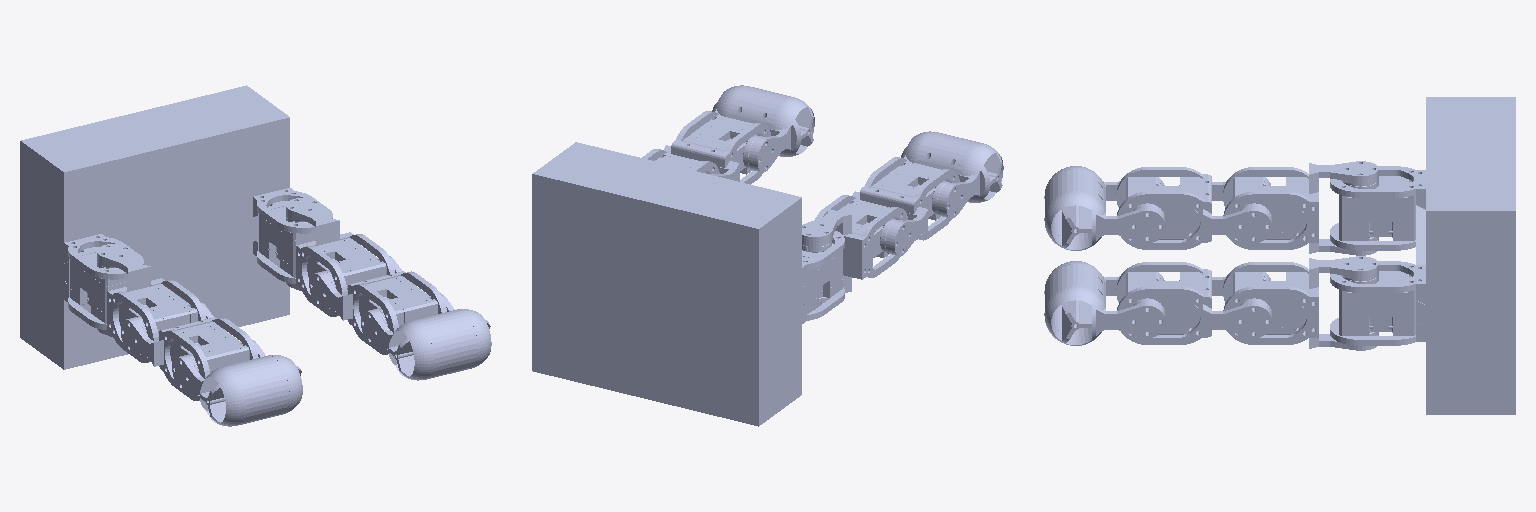
URDF robot description (WalkBot):
<?xml version="1.0" encoding="utf-8"?>
<!-- This URDF was automatically created by SolidWorks to URDF Exporter! Originally created by [author] ([email redacted]) 
     Commit Version: 1.6.0-4-g7f85cfe  Build Version: 1.6.7995.38578
     For more information, please see http://wiki.ros.org/sw_urdf_exporter -->
<robot
  name="WalkBot">
  <link
    name="Body">
    <inertial>
      <origin
        xyz="-8.1814E-07 -0.0027373 1.5441E-05"
        rpy="0 0 0" />
      <mass
        value="0.52075" />
      <inertia
        ixx="0.0004712"
        ixy="2.7572E-09"
        ixz="1.6809E-10"
        iyy="0.00098383"
        iyz="5.3327E-09"
        izz="0.00065412" />
    </inertial>
    <visual>
      <origin
        xyz="0 0 0"
        rpy="0 0 0" />
      <geometry>
        <mesh
          filename="package://WalkBot/meshes/Body.STL" />
      </geometry>
      <material
        name="">
        <color
          rgba="0.79216 0.81961 0.93333 1" />
      </material>
    </visual>
    <collision>
      <origin
        xyz="0 0 0"
        rpy="0 0 0" />
      <geometry>
        <mesh
          filename="package://WalkBot/meshes/Body.STL" />
      </geometry>
    </collision>
  </link>
  <link
    name="Servo1_Left">
    <inertial>
      <origin
        xyz="0.0001748 -0.031801 6.6302E-05"
        rpy="0 0 0" />
      <mass
        value="0.023001" />
      <inertia
        ixx="3.3804E-06"
        ixy="2.6664E-09"
        ixz="-8.4184E-11"
        iyy="1.075E-06"
        iyz="-1.3768E-09"
        izz="2.8519E-06" />
    </inertial>
    <visual>
      <origin
        xyz="0 0 0"
        rpy="0 0 0" />
      <geometry>
        <mesh
          filename="package://WalkBot/meshes/Servo1_Left.STL" />
      </geometry>
      <material
        name="">
        <color
          rgba="0.79216 0.81961 0.93333 1" />
      </material>
    </visual>
    <collision>
      <origin
        xyz="0 0 0"
        rpy="0 0 0" />
      <geometry>
        <mesh
          filename="package://WalkBot/meshes/Servo1_Left.STL" />
      </geometry>
    </collision>
  </link>
  <joint
    name="hip_L"
    type="revolute">
    <origin
      xyz="0.05 -0.048627 0"
      rpy="0 0 0" />
    <parent
      link="Body" />
    <child
      link="Servo1_Left" />
    <axis
      xyz="0 0 1" />
    <limit
      lower="-1.5708"
      upper="1.5708"
      effort="0.52"
      velocity="10.89" />
  </joint>
  <link
    name="Servo2_Left">
    <inertial>
      <origin
        xyz="0.00023591 -0.031996 9.424E-06"
        rpy="0 0 0" />
      <mass
        value="0.022604" />
      <inertia
        ixx="3.2744E-06"
        ixy="2.6681E-09"
        ixz="-8.2916E-11"
        iyy="1.1133E-06"
        iyz="-1.3786E-09"
        izz="2.8388E-06" />
    </inertial>
    <visual>
      <origin
        xyz="0 0 0"
        rpy="0 0 0" />
      <geometry>
        <mesh
          filename="package://WalkBot/meshes/Servo2_Left.STL" />
      </geometry>
      <material
        name="">
        <color
          rgba="0.79216 0.81961 0.93333 1" />
      </material>
    </visual>
    <collision>
      <origin
        xyz="0 0 0"
        rpy="0 0 0" />
      <geometry>
        <mesh
          filename="package://WalkBot/meshes/Servo2_Left.STL" />
      </geometry>
    </collision>
  </link>
  <joint
    name="knee_L"
    type="revolute">
    <origin
      xyz="0 -0.047416 0"
      rpy="0 0 0" />
    <parent
      link="Servo1_Left" />
    <child
      link="Servo2_Left" />
    <axis
      xyz="1 0 0" />
    <limit
      lower="-1.5708"
      upper="1.5708"
      effort="0.52"
      velocity="10.89" />
  </joint>
  <link
    name="Servo3_Left">
    <inertial>
      <origin
        xyz="8.1489E-05 -0.024657 2.8085E-09"
        rpy="0 0 0" />
      <mass
        value="0.0161" />
      <inertia
        ixx="1.7995E-06"
        ixy="1.2438E-12"
        ixz="6.8056E-14"
        iyy="1.2353E-06"
        iyz="-1.4179E-13"
        izz="1.4739E-06" />
    </inertial>
    <visual>
      <origin
        xyz="0 0 0"
        rpy="0 0 0" />
      <geometry>
        <mesh
          filename="package://WalkBot/meshes/Servo3_Left.STL" />
      </geometry>
      <material
        name="">
        <color
          rgba="0.79216 0.81961 0.93333 1" />
      </material>
    </visual>
    <collision>
      <origin
        xyz="0 0 0"
        rpy="0 0 0" />
      <geometry>
        <mesh
          filename="package://WalkBot/meshes/Servo3_Left.STL" />
      </geometry>
    </collision>
  </link>
  <joint
    name="ankle_L"
    type="revolute">
    <origin
      xyz="0 -0.047416 0"
      rpy="0 0 0" />
    <parent
      link="Servo2_Left" />
    <child
      link="Servo3_Left" />
    <axis
      xyz="1 0 0" />
    <limit
      lower="-1.5708"
      upper="1.5708"
      effort="0.52"
      velocity="10.89" />
  </joint>
  <link
    name="Servo1_Right">
    <inertial>
      <origin
        xyz="0.0001748 -0.031801 6.6302E-05"
        rpy="0 0 0" />
      <mass
        value="0.023001" />
      <inertia
        ixx="3.3804E-06"
        ixy="2.6664E-09"
        ixz="-8.4184E-11"
        iyy="1.075E-06"
        iyz="-1.3768E-09"
        izz="2.8519E-06" />
    </inertial>
    <visual>
      <origin
        xyz="0 0 0"
        rpy="0 0 0" />
      <geometry>
        <mesh
          filename="package://WalkBot/meshes/Servo1_Right.STL" />
      </geometry>
      <material
        name="">
        <color
          rgba="0.79216 0.81961 0.93333 1" />
      </material>
    </visual>
    <collision>
      <origin
        xyz="0 0 0"
        rpy="0 0 0" />
      <geometry>
        <mesh
          filename="package://WalkBot/meshes/Servo1_Right.STL" />
      </geometry>
    </collision>
  </link>
  <joint
    name="hip_R"
    type="revolute">
    <origin
      xyz="-0.05 -0.048627 0"
      rpy="0 0 0" />
    <parent
      link="Body" />
    <child
      link="Servo1_Right" />
    <axis
      xyz="0 0 1" />
    <limit
      lower="-1.5708"
      upper="1.5708"
      effort="0.52"
      velocity="10.89" />
  </joint>
  <link
    name="Servo2_Right">
    <inertial>
      <origin
        xyz="0.00023591 -0.031996 9.424E-06"
        rpy="0 0 0" />
      <mass
        value="0.022604" />
      <inertia
        ixx="3.2744E-06"
        ixy="2.6681E-09"
        ixz="-8.2916E-11"
        iyy="1.1133E-06"
        iyz="-1.3786E-09"
        izz="2.8388E-06" />
    </inertial>
    <visual>
      <origin
        xyz="0 0 0"
        rpy="0 0 0" />
      <geometry>
        <mesh
          filename="package://WalkBot/meshes/Servo2_Right.STL" />
      </geometry>
      <material
        name="">
        <color
          rgba="0.79216 0.81961 0.93333 1" />
      </material>
    </visual>
    <collision>
      <origin
        xyz="0 0 0"
        rpy="0 0 0" />
      <geometry>
        <mesh
          filename="package://WalkBot/meshes/Servo2_Right.STL" />
      </geometry>
    </collision>
  </link>
  <joint
    name="knee_R"
    type="revolute">
    <origin
      xyz="0 -0.047416 0"
      rpy="0 0 0" />
    <parent
      link="Servo1_Right" />
    <child
      link="Servo2_Right" />
    <axis
      xyz="1 0 0" />
    <limit
      lower="-1.5708"
      upper="1.5708"
      effort="0.52"
      velocity="10.89" />
  </joint>
  <link
    name="Servo3_Right">
    <inertial>
      <origin
        xyz="8.1489E-05 -0.024657 2.8085E-09"
        rpy="0 0 0" />
      <mass
        value="0.0161" />
      <inertia
        ixx="1.7995E-06"
        ixy="1.2438E-12"
        ixz="6.8056E-14"
        iyy="1.2353E-06"
        iyz="-1.4179E-13"
        izz="1.4739E-06" />
    </inertial>
    <visual>
      <origin
        xyz="0 0 0"
        rpy="0 0 0" />
      <geometry>
        <mesh
          filename="package://WalkBot/meshes/Servo3_Right.STL" />
      </geometry>
      <material
        name="">
        <color
          rgba="0.79216 0.81961 0.93333 1" />
      </material>
    </visual>
    <collision>
      <origin
        xyz="0 0 0"
        rpy="0 0 0" />
      <geometry>
        <mesh
          filename="package://WalkBot/meshes/Servo3_Right.STL" />
      </geometry>
    </collision>
  </link>
  <joint
    name="ankle_R"
    type="revolute">
    <origin
      xyz="0 -0.047416 0"
      rpy="0 0 0" />
    <parent
      link="Servo2_Right" />
    <child
      link="Servo3_Right" />
    <axis
      xyz="1 0 0" />
    <limit
      lower="-1.5708"
      upper="1.5708"
      effort="0.52"
      velocity="10.89" />
  </joint>
</robot>

--- Facts derived from the render (not from the file) ---
The picture shows the robot from 3 angles, left to right: view 1: azimuth 30°, elevation 25°; view 2: azimuth 150°, elevation 25°; view 3: azimuth 270°, elevation 25°; orthographic projection.
Model WalkBot with 7 links and 6 joints (6 revolute), rooted at Body, posed all joints at 0.
Visible links, largest first — view 1: Body, Servo3_Right, Servo3_Left, Servo1_Right, Servo1_Left, Servo2_Left, Servo2_Right; view 2: Body, Servo2_Right, Servo1_Right, Servo3_Right, Servo3_Left, Servo2_Left, Servo1_Left; view 3: Body, Servo2_Left, Servo2_Right, Servo1_Left, Servo1_Right, Servo3_Left, Servo3_Right.
Link boxes in pixels (bbox=[...]): Body: bbox=[20, 85, 332, 369]; Servo3_Right: bbox=[172, 340, 302, 426]; Servo3_Left: bbox=[361, 293, 491, 380]; Servo1_Right: bbox=[97, 244, 206, 362]; Servo1_Left: bbox=[286, 198, 394, 316]; Servo2_Left: bbox=[309, 256, 446, 354]; Servo2_Right: bbox=[121, 302, 258, 400]; Body: bbox=[532, 142, 844, 426]; Servo2_Right: bbox=[838, 157, 959, 255]; Servo1_Right: bbox=[802, 195, 907, 307]; Servo3_Right: bbox=[879, 131, 1003, 218]; Servo3_Left: bbox=[693, 85, 814, 172]; Servo2_Left: bbox=[664, 111, 770, 184]; Servo1_Left: bbox=[642, 149, 719, 173]; Body: bbox=[1330, 97, 1515, 414]; Servo2_Left: bbox=[1116, 262, 1271, 344]; Servo2_Right: bbox=[1116, 167, 1271, 249]; Servo1_Left: bbox=[1223, 256, 1378, 350]; Servo1_Right: bbox=[1223, 161, 1378, 255]; Servo3_Left: bbox=[1044, 261, 1165, 345]; Servo3_Right: bbox=[1044, 166, 1165, 250].
Size in the robot's own frame: 0.1474 by 0.2095 by 0.1 metres.
7 mesh visuals loaded from 7 distinct referenced files (7 binary STL).
